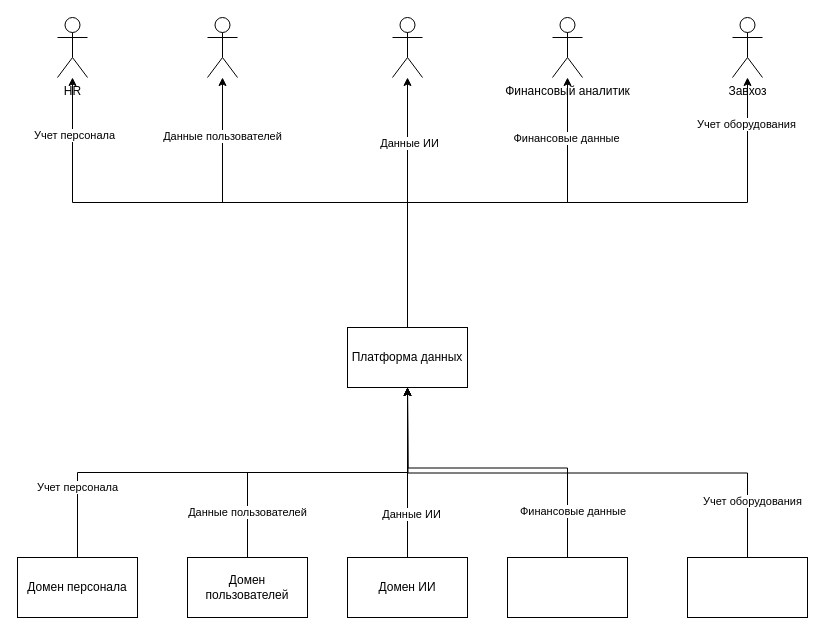
This 825x635 diagram has some shape labels left out. The shapes that lost their labels are listed below. From the top down, each one's centre as x and y in pixels, then its label:
the point at 222,47: Клиентолог
the point at 407,47: Обучатель ML
the point at 567,587: Домен финансов
the point at 747,587: Домен инвентаризации
